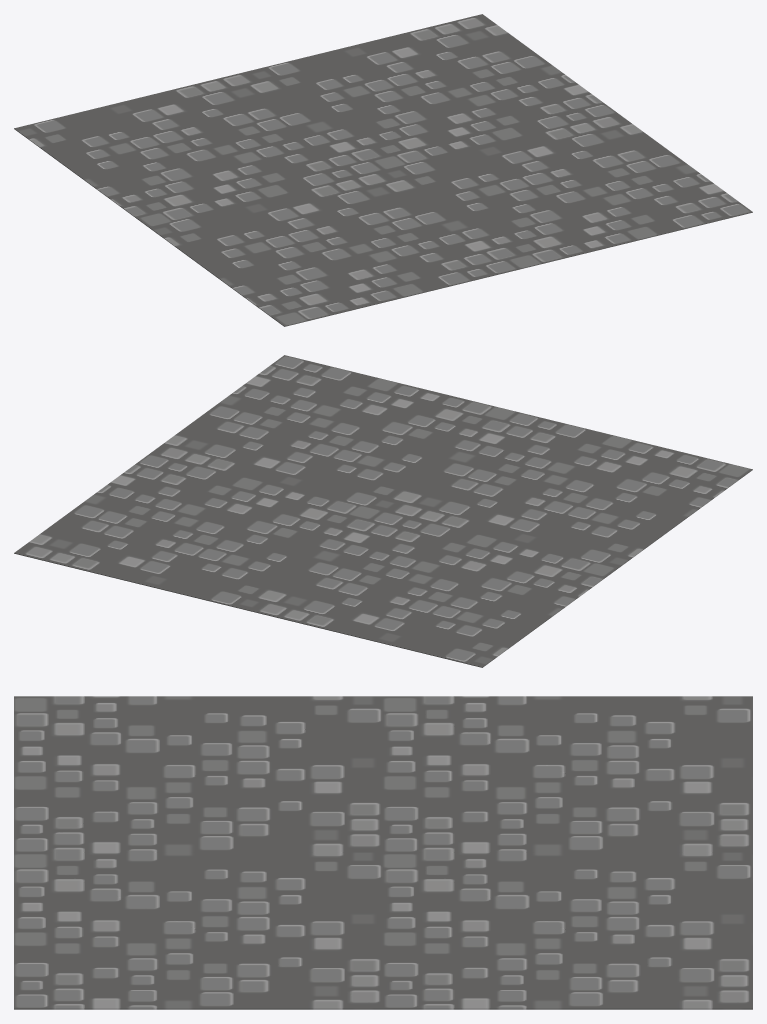
File: FloorBasePebbles_01.glb
3 renders of one model, top to bottom at view 1: azimuth 30°, elevation 25°; view 2: azimuth 150°, elevation 25°; view 3: azimuth 270°, elevation 25°, orthographic. The views are drawn at different scales.
Parts seen in each view (by area): view 1: FloorBasePebbles_01; view 2: FloorBasePebbles_01; view 3: FloorBasePebbles_01.
Part boxes in pixels (x1,y1,x2,y2): FloorBasePebbles_01: [14, 14, 752, 326]; FloorBasePebbles_01: [14, 355, 752, 667]; FloorBasePebbles_01: [14, 696, 752, 1009].
Size of the model in its own units: 16 by 0.0191 by 16.
1 material, 1 textured.
